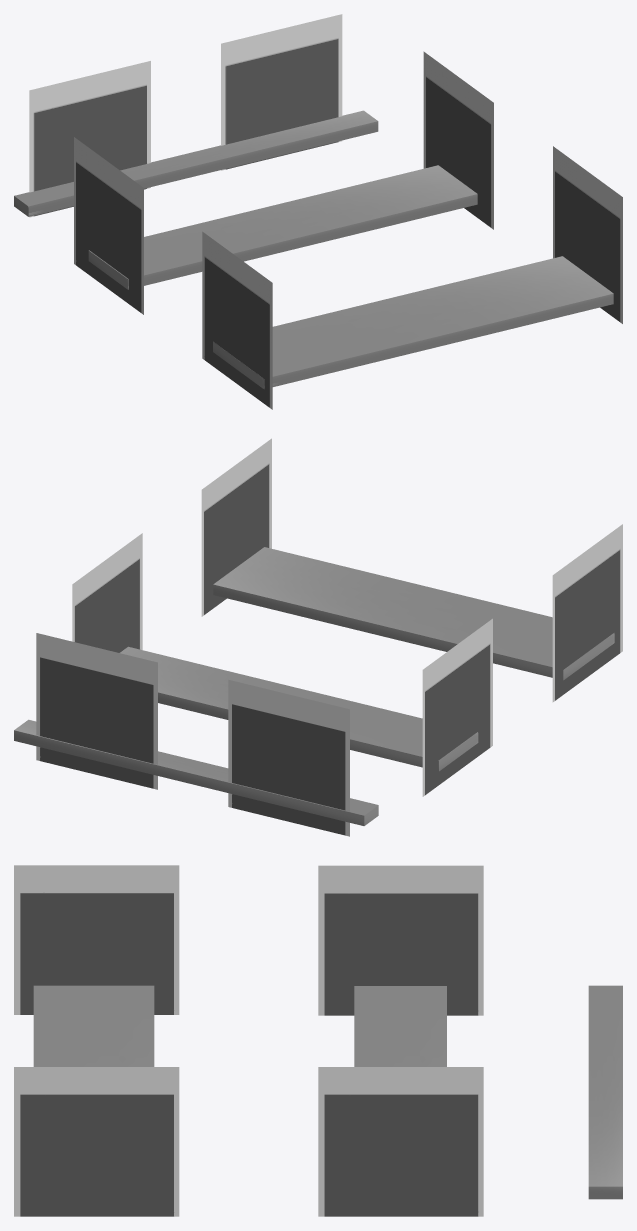
File: cell2.1.obj
3 views of the same model, one above another, from view 1: azimuth 30°, elevation 25°; view 2: azimuth 150°, elevation 25°; view 3: azimuth 270°, elevation 25° (orthographic). The views are drawn at different scales.
Visible parts, largest first — view 1: cube_Cube.001, cube.001_Cube.002, Plane.005, Plane.004, Plane.003, Plane, Plane.001, Plane.002, cube.002_Cube.003; view 2: cube_Cube.001, Plane.005, Plane.004, cube.001_Cube.002, Plane, Plane.003, Plane.002, Plane.001, cube.002_Cube.003; view 3: Plane.001, Plane.002, Plane, Plane.003, cube_Cube.001, cube.001_Cube.002, cube.002_Cube.003.
Boxes of the visible parts, x1,y1,x2,y2 form: cube_Cube.001: [213, 256, 613, 388]; cube.001_Cube.002: [88, 165, 477, 289]; Plane.005: [221, 14, 342, 170]; Plane.004: [29, 61, 150, 217]; Plane.003: [202, 231, 272, 409]; Plane: [74, 137, 143, 314]; Plane.001: [423, 51, 493, 229]; Plane.002: [553, 146, 622, 323]; cube.002_Cube.003: [14, 110, 378, 216]; cube_Cube.001: [213, 547, 614, 680]; Plane.005: [36, 633, 157, 789]; Plane.004: [228, 679, 349, 836]; cube.001_Cube.002: [120, 646, 478, 771]; Plane: [422, 618, 492, 796]; Plane.003: [552, 524, 622, 702]; Plane.002: [201, 438, 271, 616]; Plane.001: [72, 533, 142, 652]; cube.002_Cube.003: [14, 719, 378, 825]; Plane.001: [318, 1067, 483, 1216]; Plane.002: [14, 1067, 179, 1216]; Plane: [318, 865, 483, 1015]; Plane.003: [14, 865, 179, 1014]; cube_Cube.001: [33, 985, 154, 1066]; cube.001_Cube.002: [354, 986, 446, 1066]; cube.002_Cube.003: [588, 985, 622, 1199].
Size of the model in its own units: 12.03 by 4.17 by 15.36.
